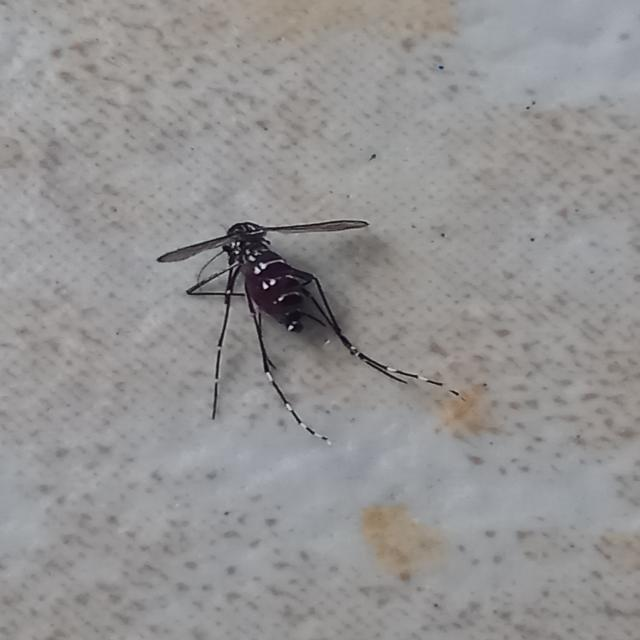albopictus: (151, 211, 461, 448)
